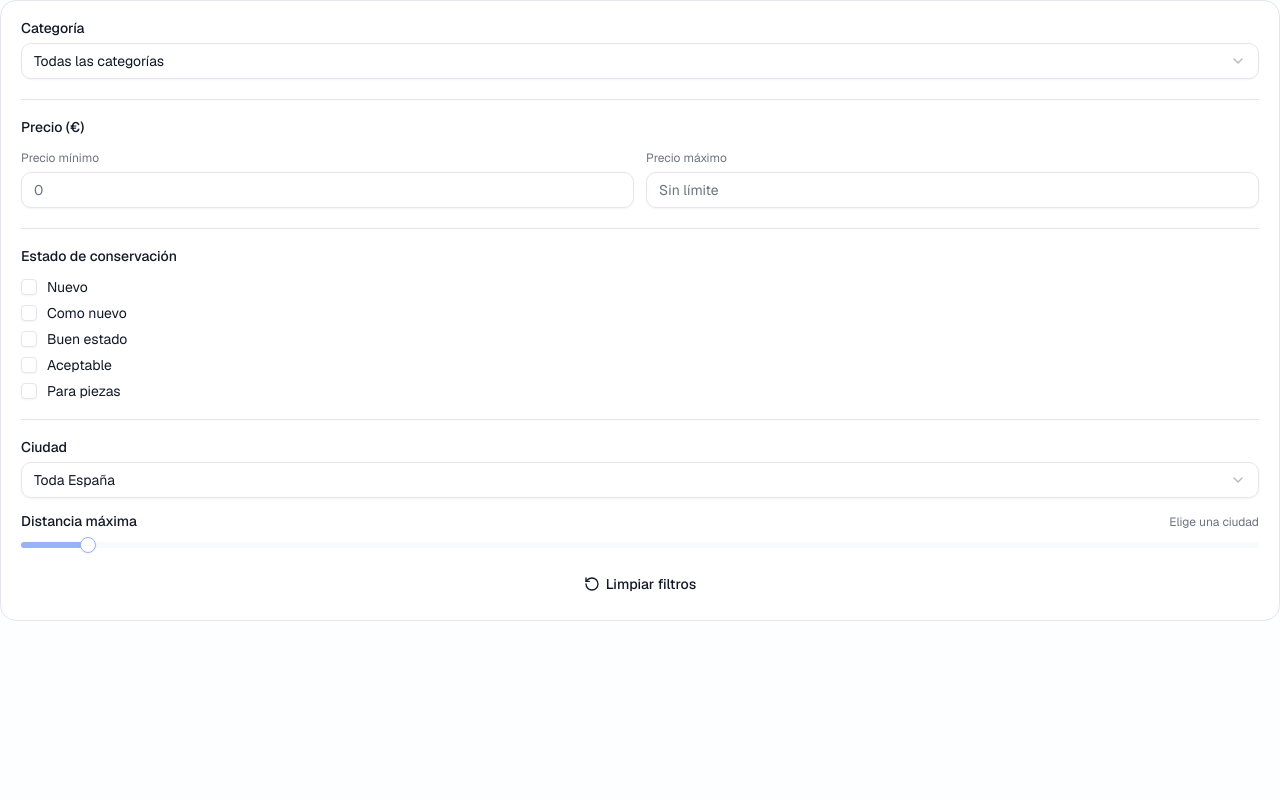
it: ListingFilters › no aplica el rango de precio con el mínimo mayor que el máximo
In the number field labelled "Precio mínimo": (328,190) [21,172,634,208], type "300"
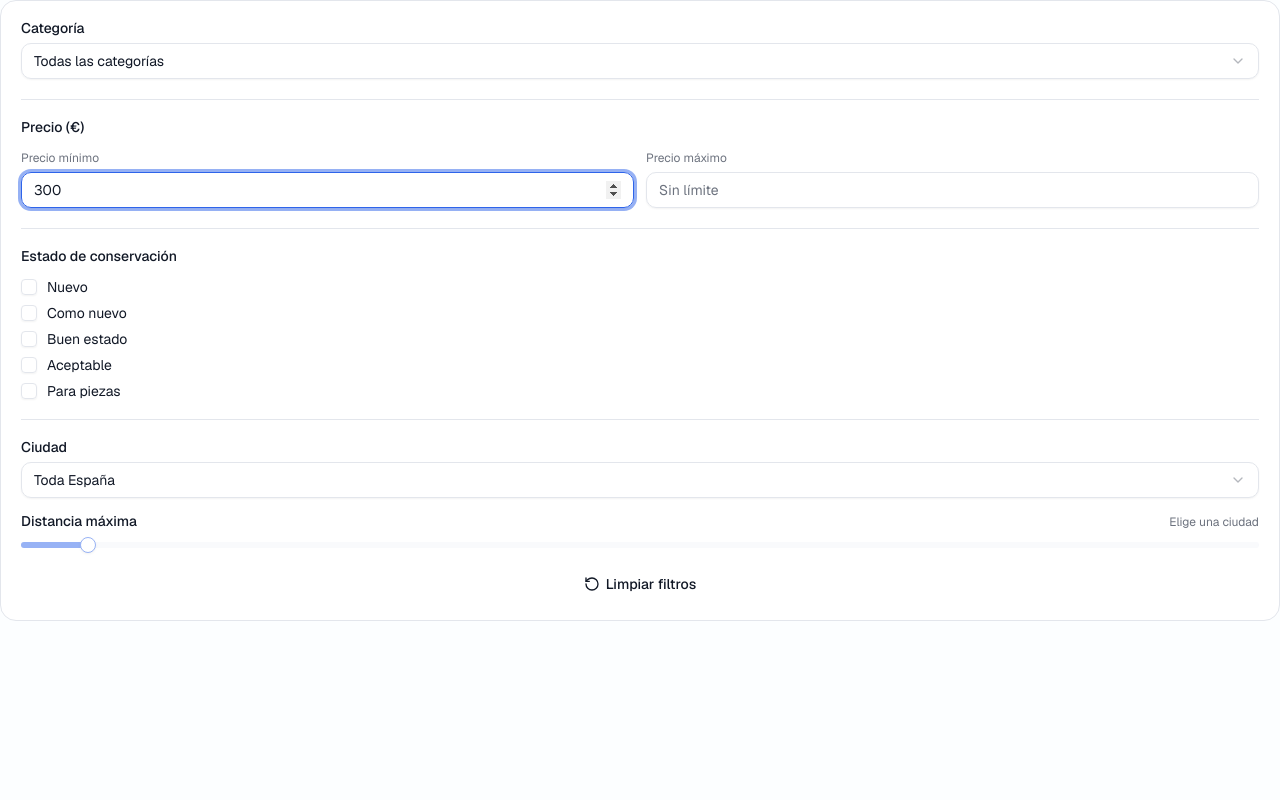
In the number field labelled "Precio máximo": (952,190) [646,172,1259,208], type "100"
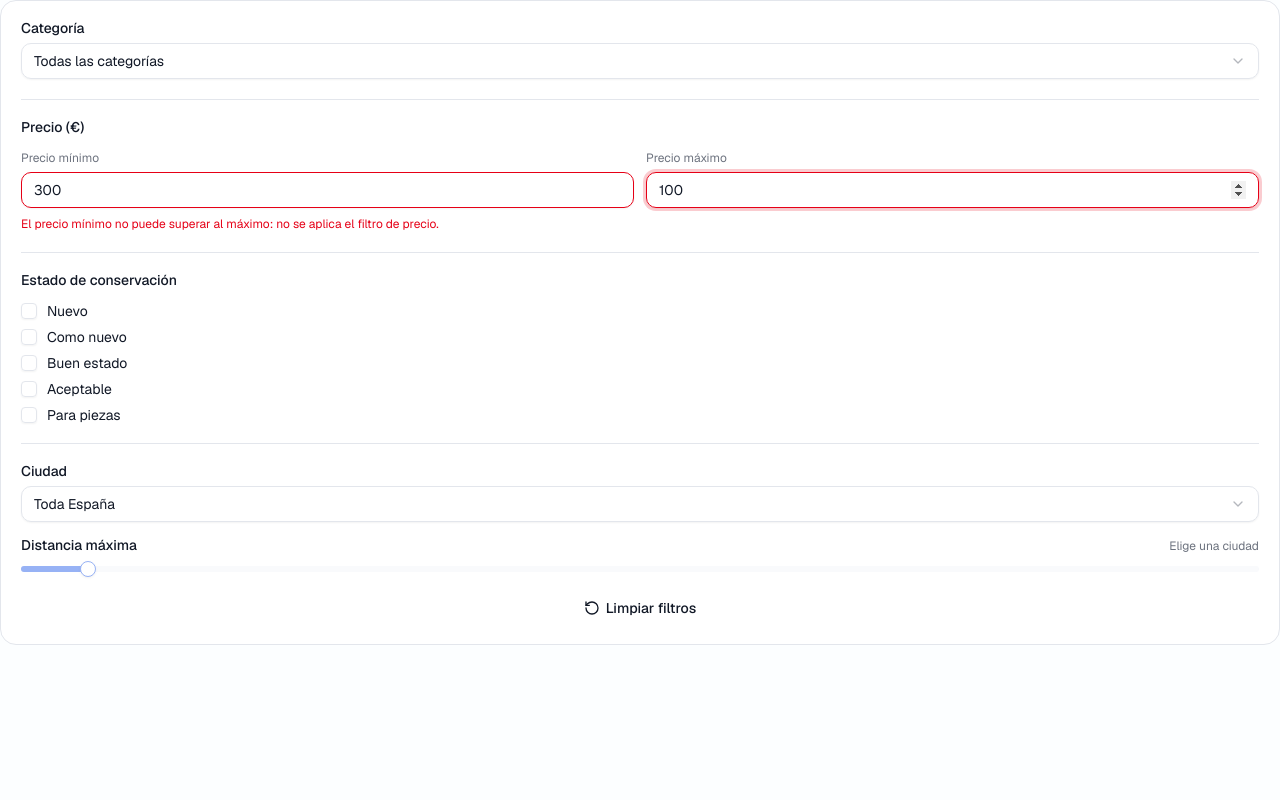
Expected: the message shows "no se aplica el filtro de precio", [21,216,439,232]
